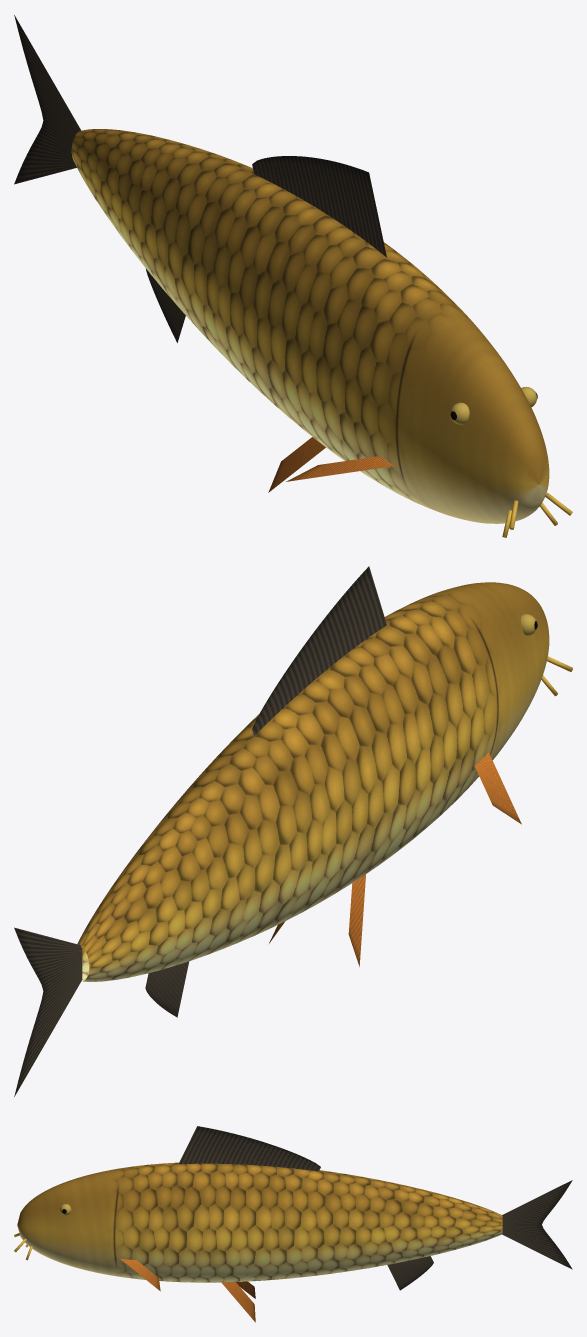
The model's file is sazan_trophy.obj.
The picture shows the model from 3 angles, top to bottom: view 1: azimuth 30°, elevation 25°; view 2: azimuth 150°, elevation 25°; view 3: azimuth 270°, elevation 25°; orthographic projection. The views are drawn at different scales.
Parts seen in each view (by area): view 1: body, fin_dorsal0, fin_tail, fin_pect_R, fin_pelv_R, fin_anal0; view 2: body, fin_dorsal0, fin_tail, fin_anal0, fin_pect_R, fin_pelv_R; view 3: body, fin_dorsal0, fin_tail, fin_anal0, fin_pelv_L, fin_pect_L.
Part boxes in pixels (x1,y1,x2,y2): body: (71,129,549,523); fin_dorsal0: (252,156,386,257); fin_tail: (14,15,80,184); fin_pect_R: (286,456,395,481); fin_pelv_R: (268,437,325,492); fin_anal0: (146,269,185,342); body: (77,582,549,981); fin_dorsal0: (252,566,386,735); fin_tail: (14,927,82,1096); fin_anal0: (145,961,189,1017); fin_pect_R: (474,752,521,824); fin_pelv_R: (348,874,365,966); body: (17,1162,502,1282); fin_dorsal0: (178,1126,320,1171); fin_tail: (502,1180,572,1269); fin_anal0: (387,1256,433,1290); fin_pelv_L: (221,1282,255,1322); fin_pect_L: (120,1259,160,1291).
Bounding box in the file's own units: 0.2069 × 0.2923 × 0.8.
6 materials, 3 textured.
